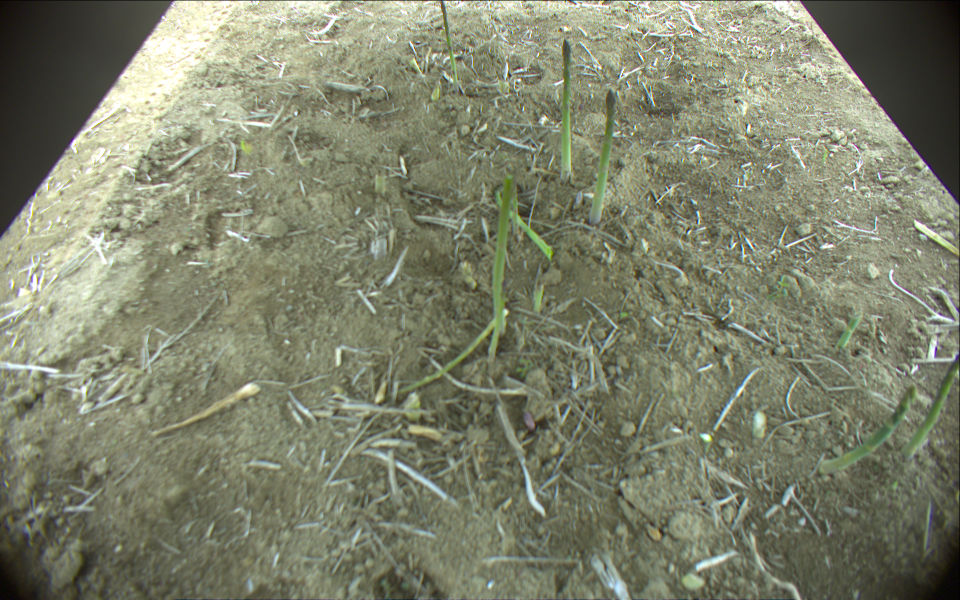aspa: (388, 306, 508, 400), (815, 382, 917, 476), (903, 346, 960, 461), (488, 174, 517, 360), (584, 88, 618, 229), (495, 184, 553, 256), (559, 39, 573, 184), (915, 219, 960, 262), (439, 1, 459, 89), (838, 305, 867, 350)
